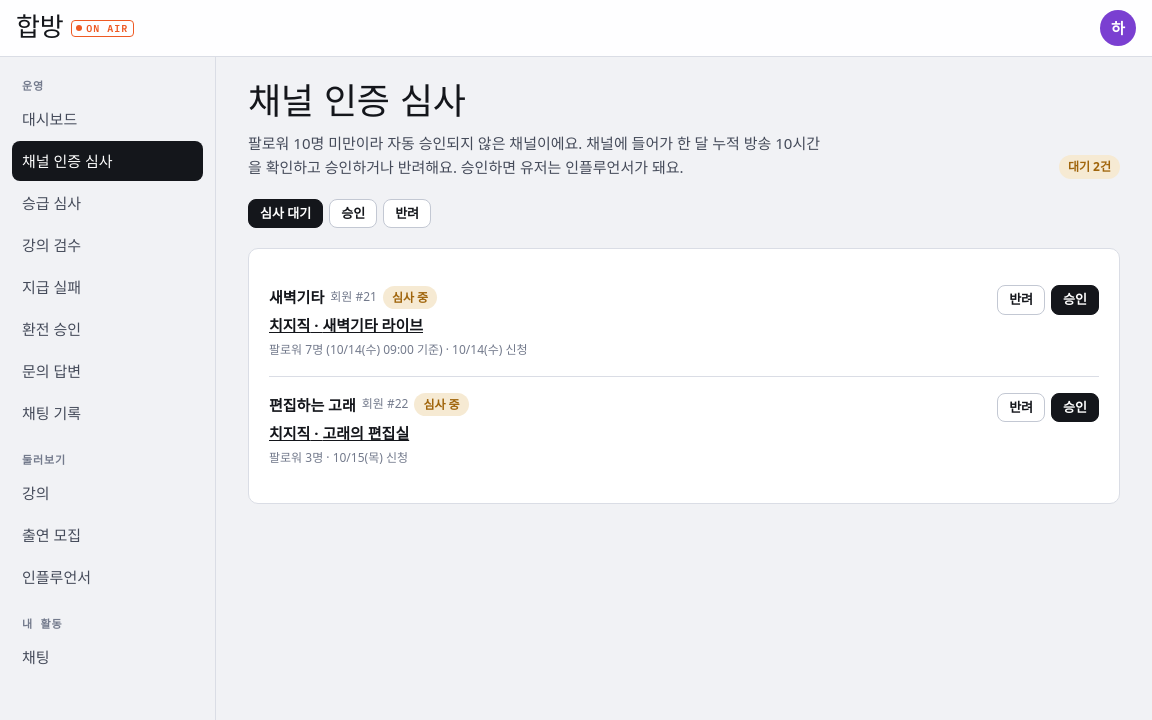
Test case: 관리자 채널 인증 심사 › 반려가 일시적으로 실패하면 모달과 입력한 사유를 그대로 둔다
The image size is (1152, 720).
Click the button "반려" in the row of "21" at (1021, 300), box x1=997 y1=285 x2=1045 y2=315
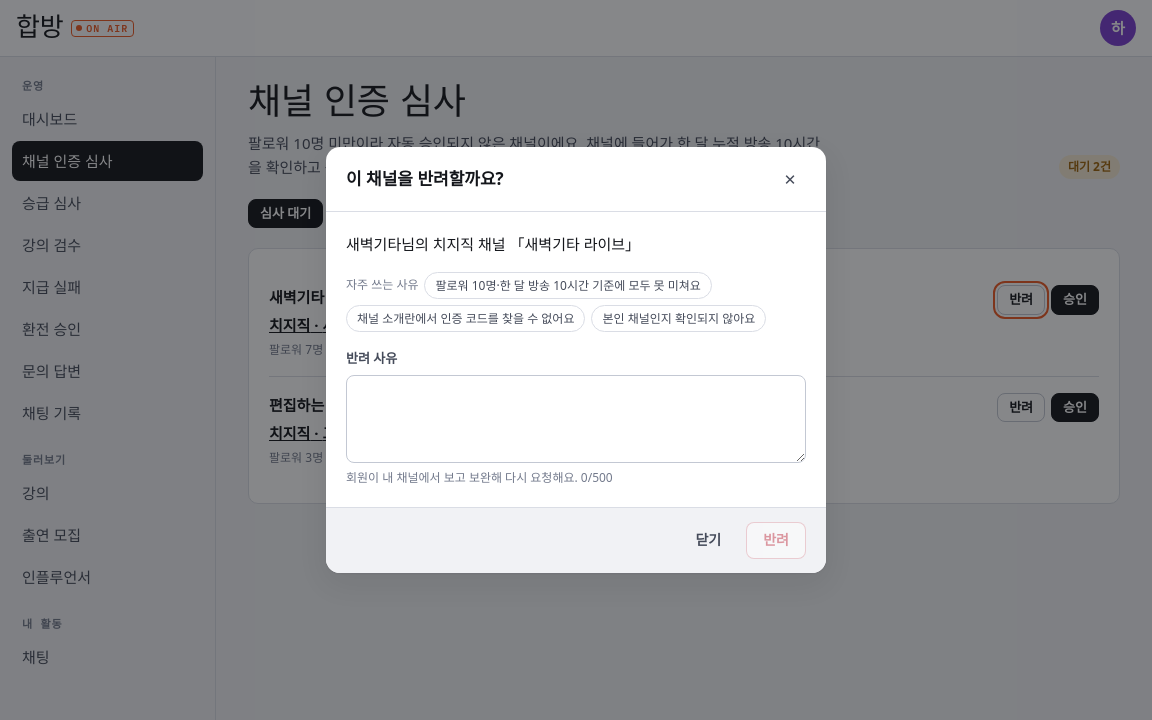
Type "직접 쓴 사유" into the text box labelled "반려 사유" at (576, 419), box x1=346 y1=375 x2=806 y2=463
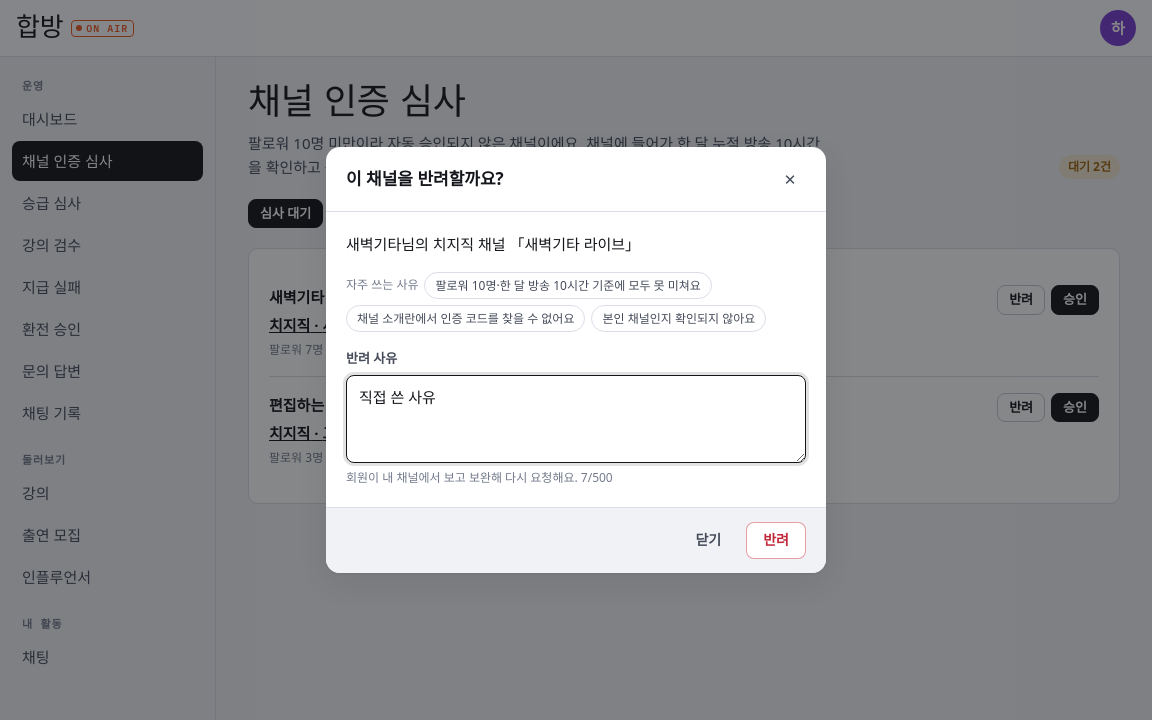
Click the button "반려" at (776, 541), box x1=746 y1=522 x2=806 y2=559
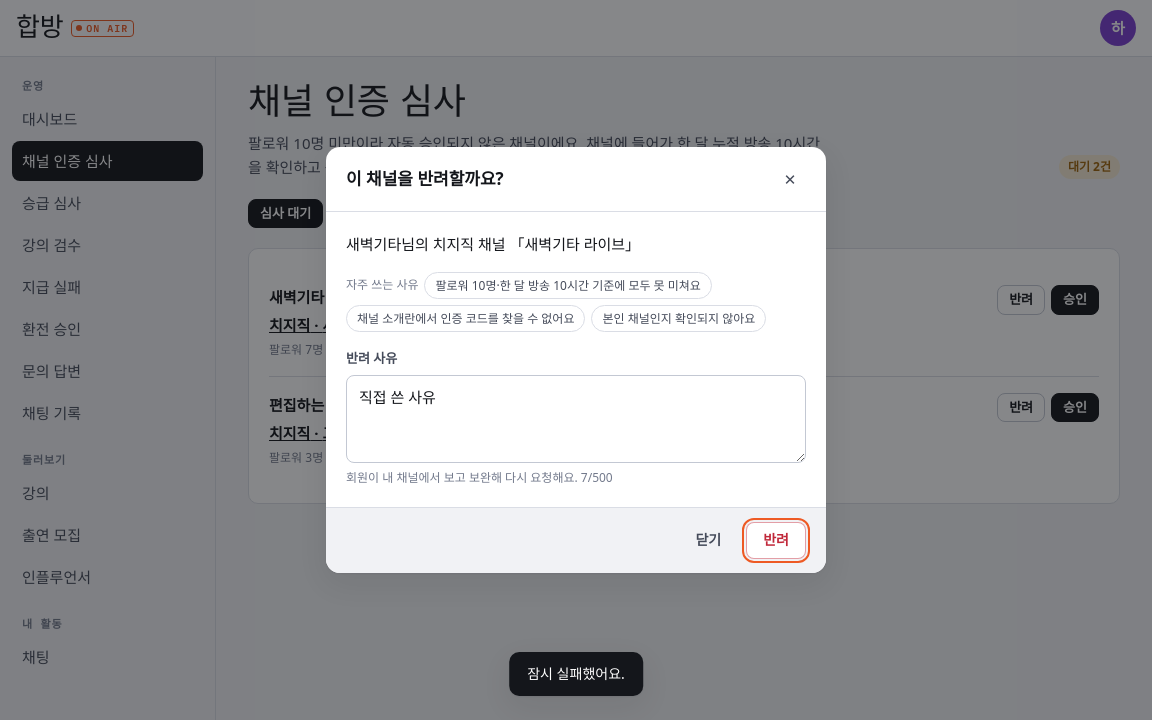
Check: the text "잠시 실패했어요." is shown, box x1=509 y1=652 x2=643 y2=696
